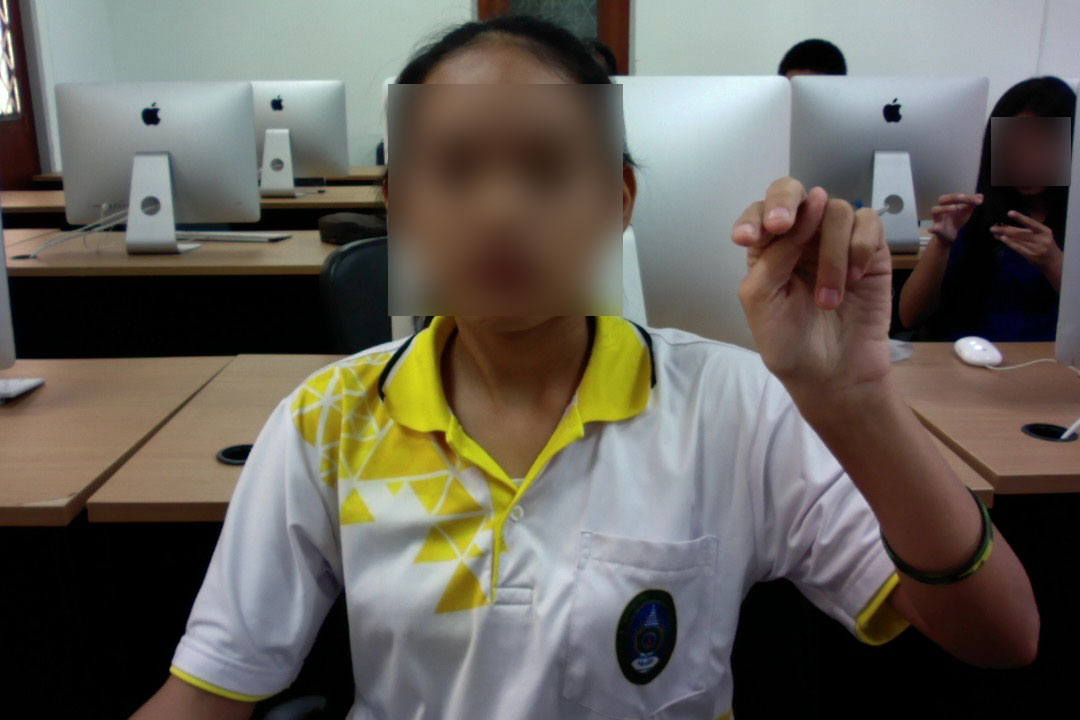nor: (723, 175, 905, 420)
